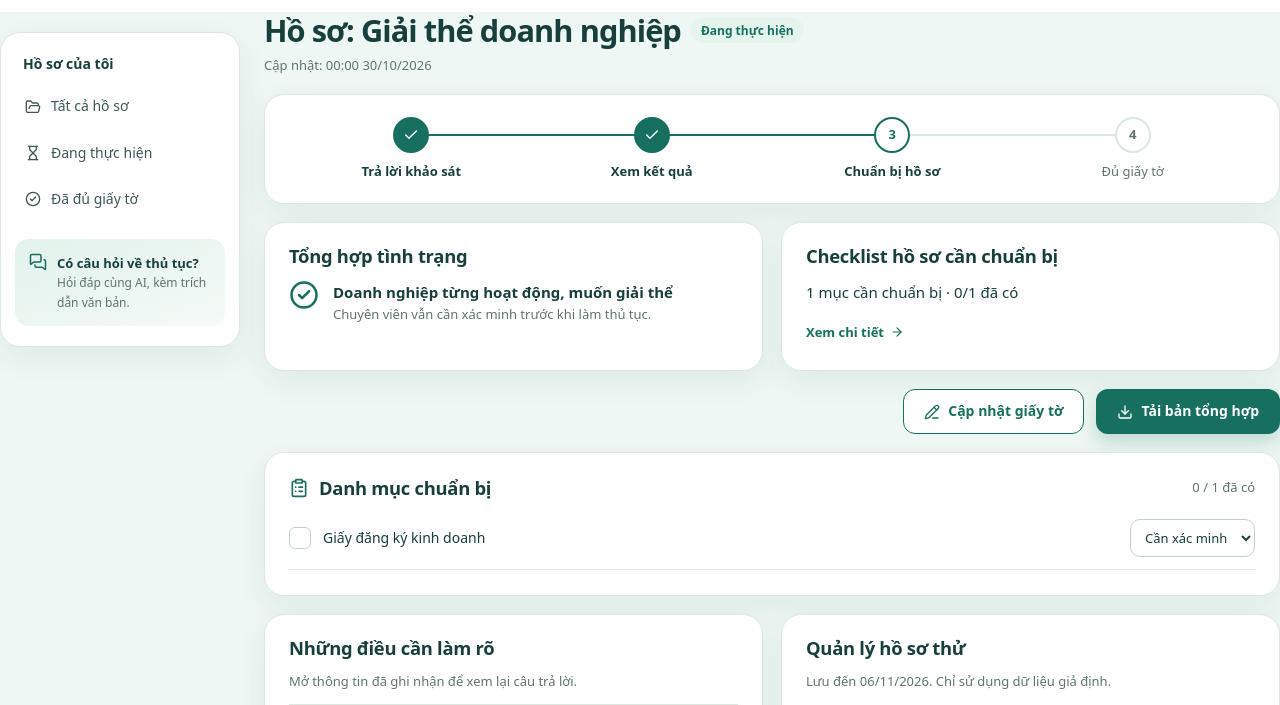
Test: Chuẩn bị hồ sơ khảo sát › giữ trạng thái cũ khi lưu lỗi
The image size is (1280, 705).
Select "Đã có" in the dropdown named "Trạng thái: Giấy đăng ký kinh doanh" at (1192, 538), box [1130,519,1255,557]
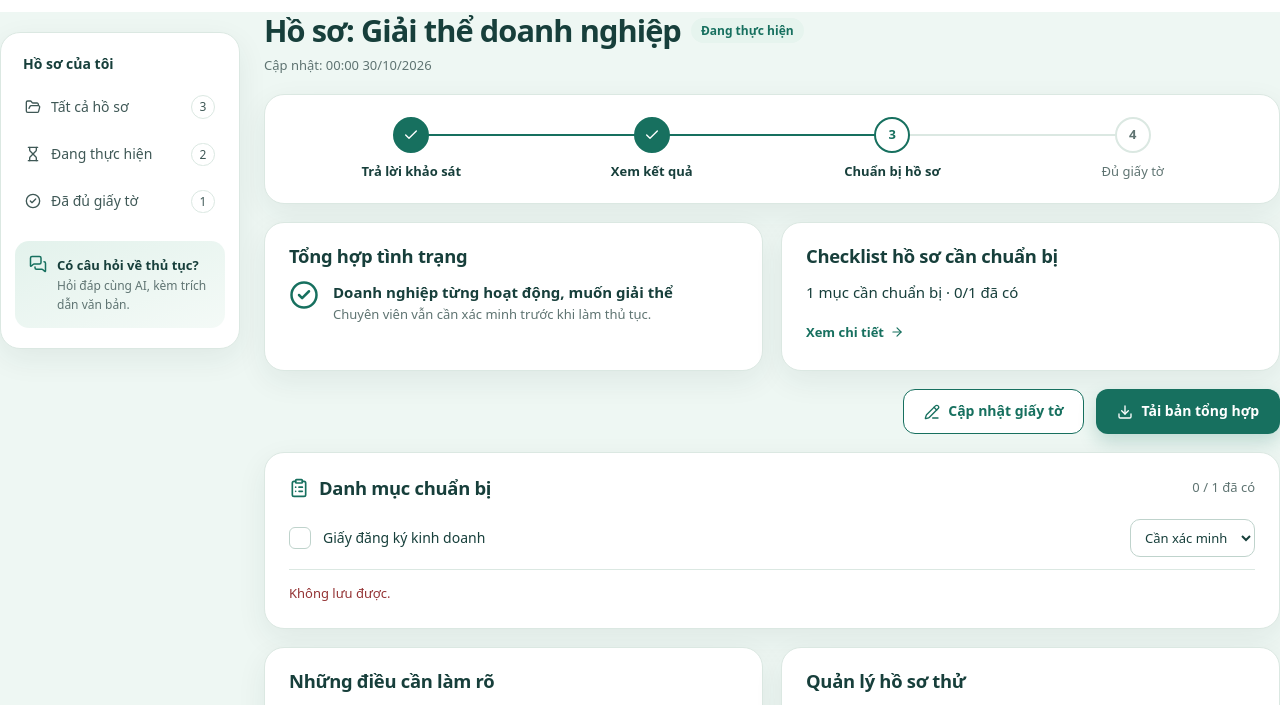
Now the message reads "Không lưu được.", box [289,584,390,602]
